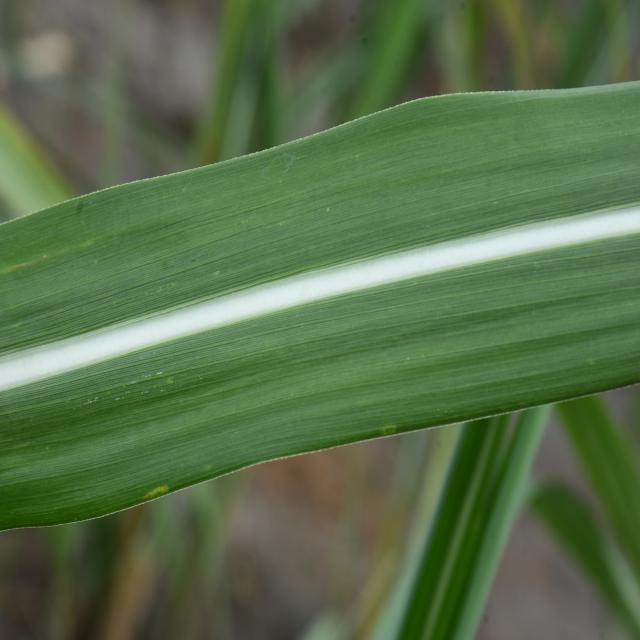Sugarcane: (0, 80, 640, 538)
